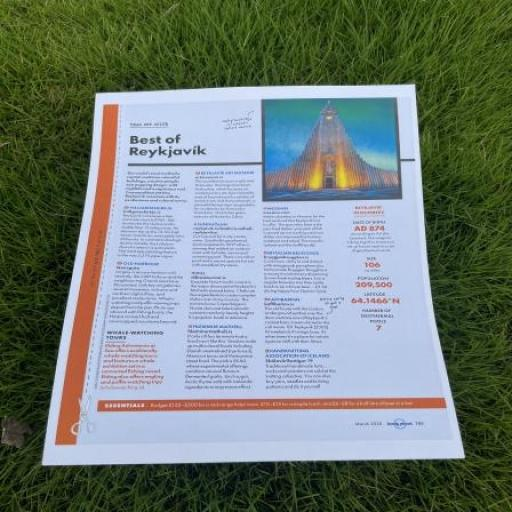paper: (37, 57, 496, 502)
